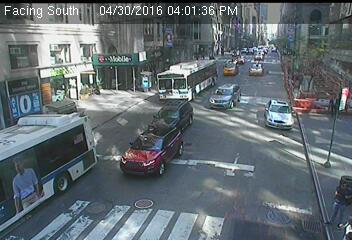neg: (189, 146, 230, 200), (135, 77, 171, 124), (296, 88, 315, 114), (270, 49, 285, 68), (283, 70, 295, 87), (253, 34, 264, 49), (239, 50, 246, 59)
pos: (324, 178, 351, 232)
